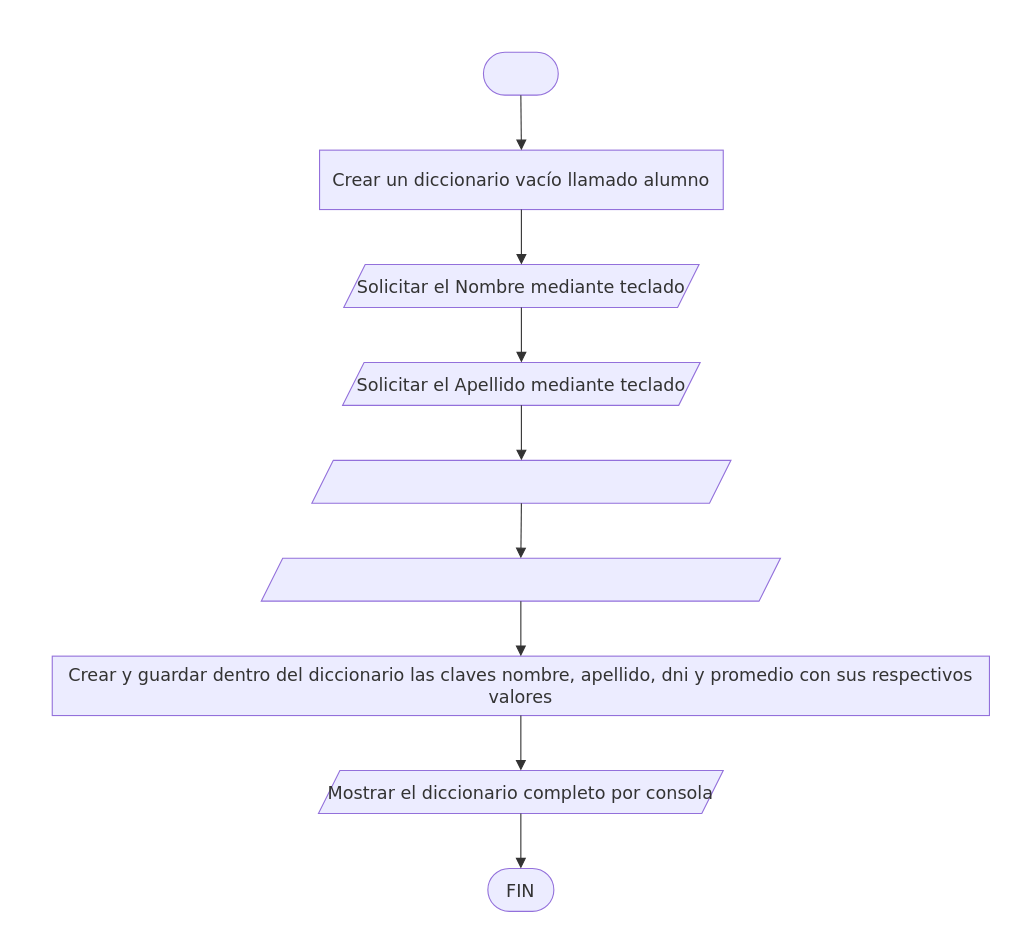
This 1009x931 diagram has some shape labels left out. Here are the shapes that lost their labels. From the top down, the centre of each, then its label:
[520,73]: INICIO
[521,481]: Solicitar el DNI y convertirlo a número entero
[520,579]: Solicitar el Promedio y convertirlo a número decimal float
